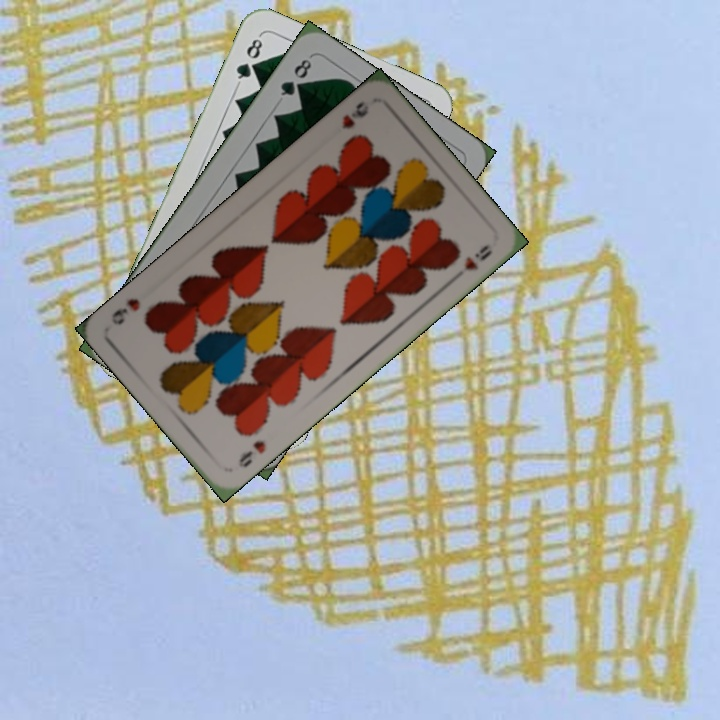G8: (232, 31, 266, 87), (276, 54, 315, 99)
H9: (337, 97, 372, 132), (234, 436, 269, 470)
